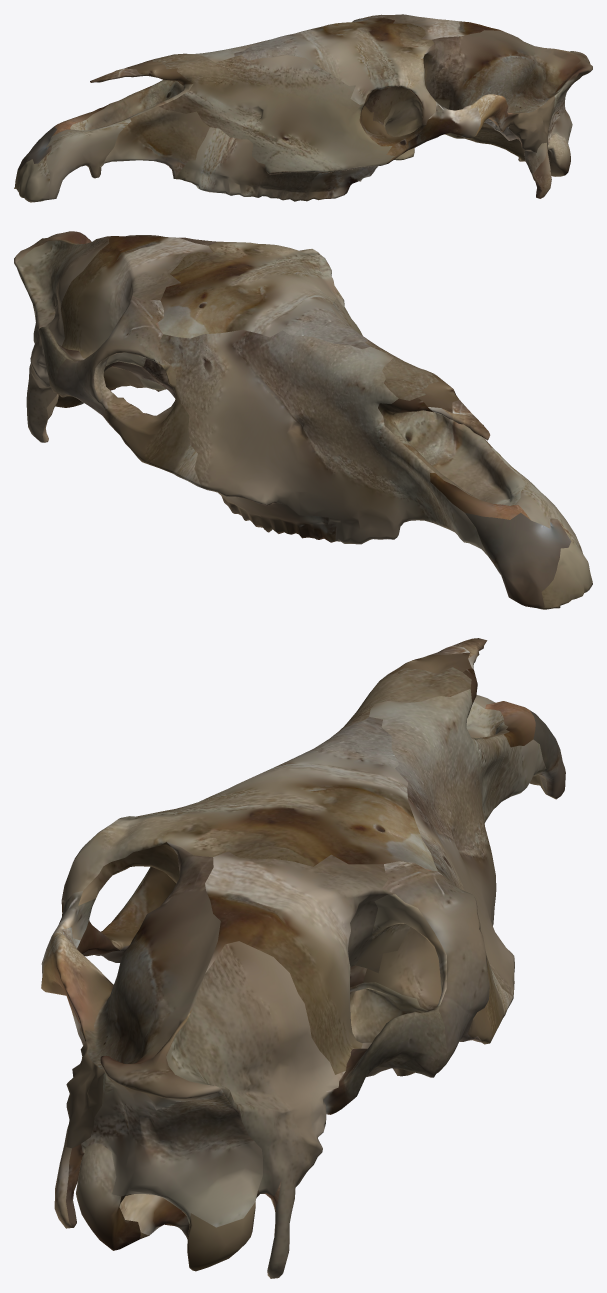
File: 3DModel_LowPoly.obj
3 views of the same model, one above another, from view 1: azimuth 30°, elevation 25°; view 2: azimuth 150°, elevation 25°; view 3: azimuth 270°, elevation 25° (orthographic). The views are drawn at different scales.
Size of the model in its own units: 6.42 by 2.03 by 2.97.
